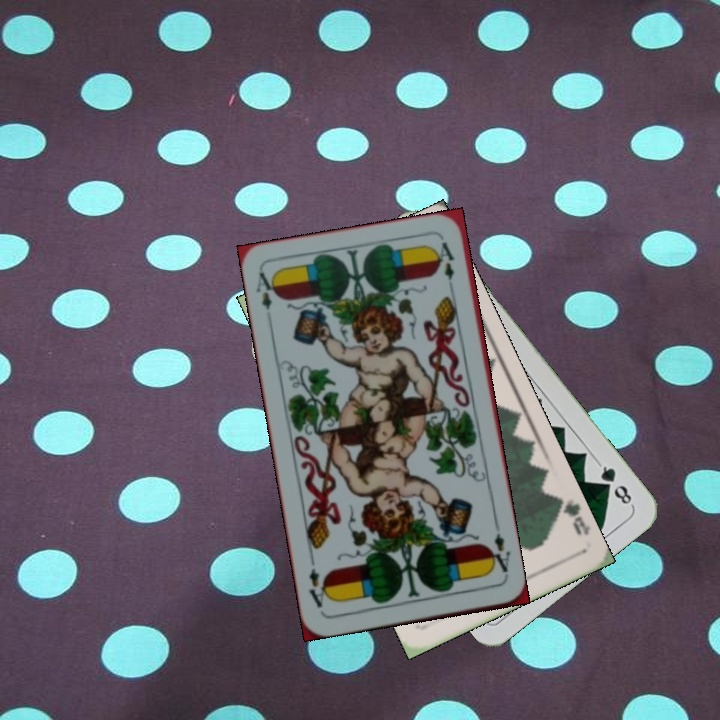EA: (484, 521, 513, 580), (251, 268, 280, 312)
G8: (594, 459, 636, 509)
G9: (553, 493, 592, 538)
